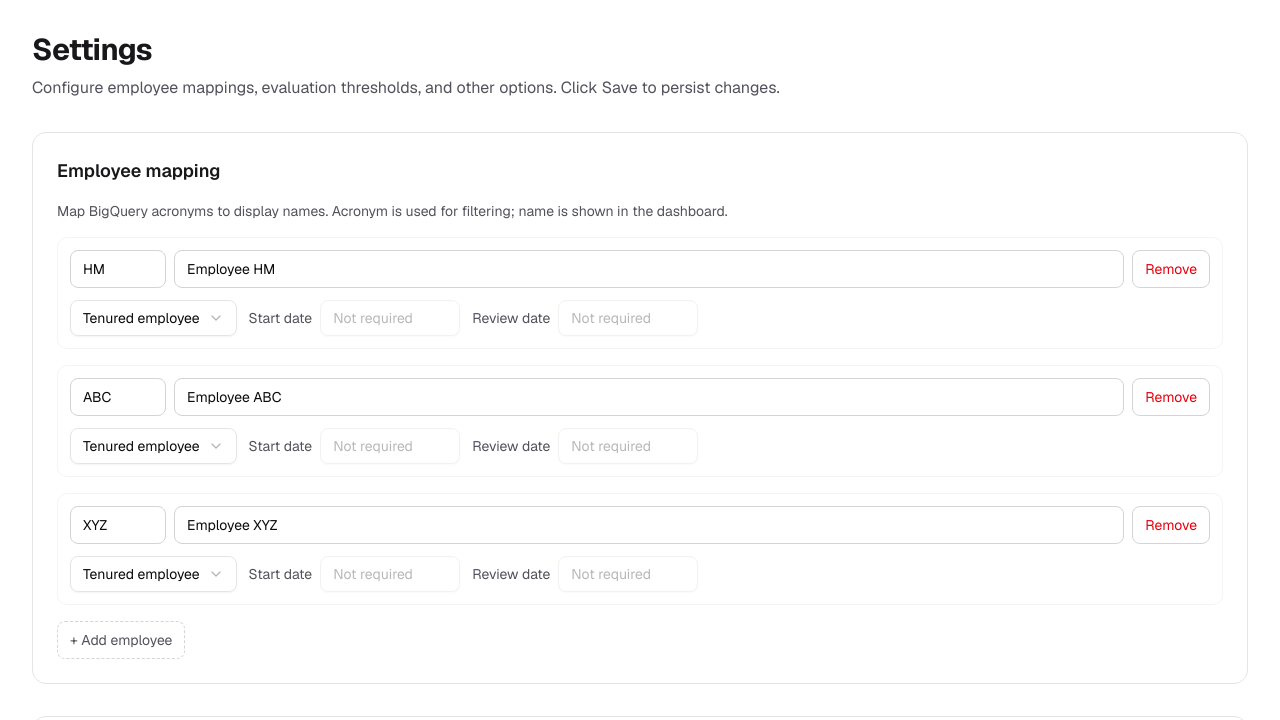
Test: Settings page › Start date and Review date pickers are enabled when status is changed to probationary
What coordinates should you click on to do the following:
click the dropdown named "Employee status"
I would click on:
 (153, 318)
Its box is x1=70 y1=300 x2=237 y2=336.
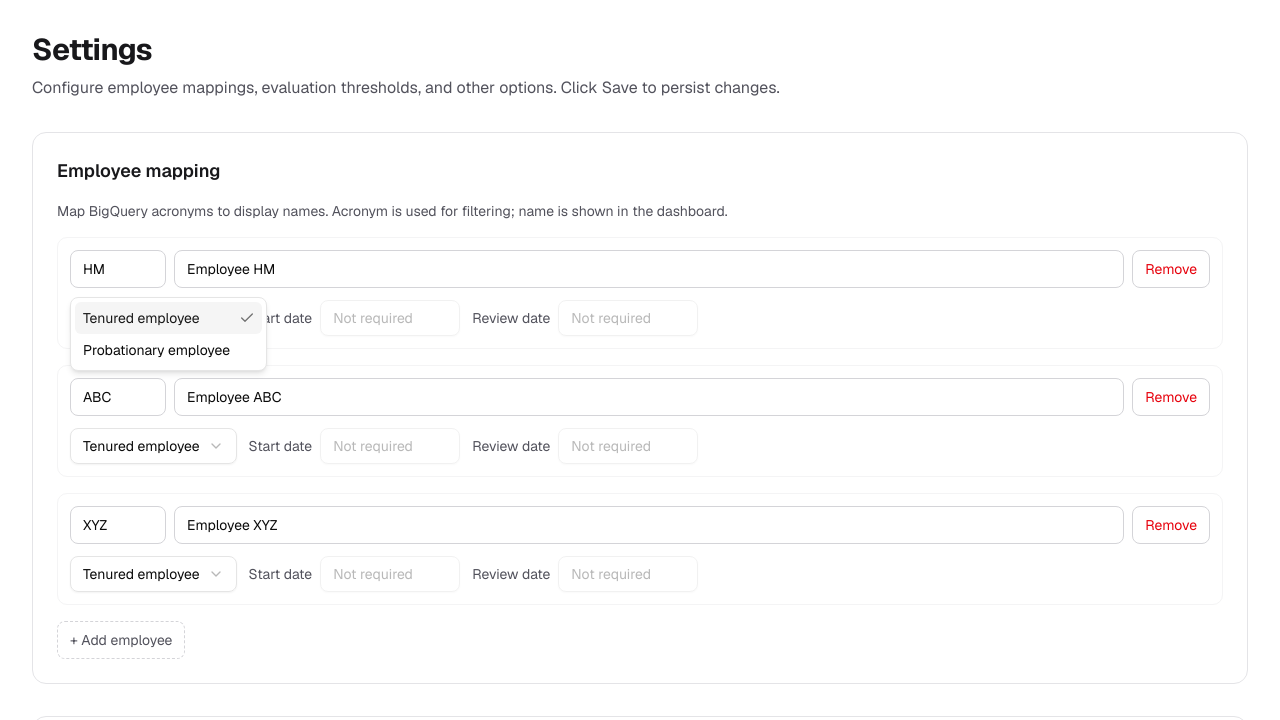
What coordinates should you click on to do the following:
click the option "Probationary employee"
I would click on:
 (157, 350)
Its box is x1=83 y1=341 x2=230 y2=359.
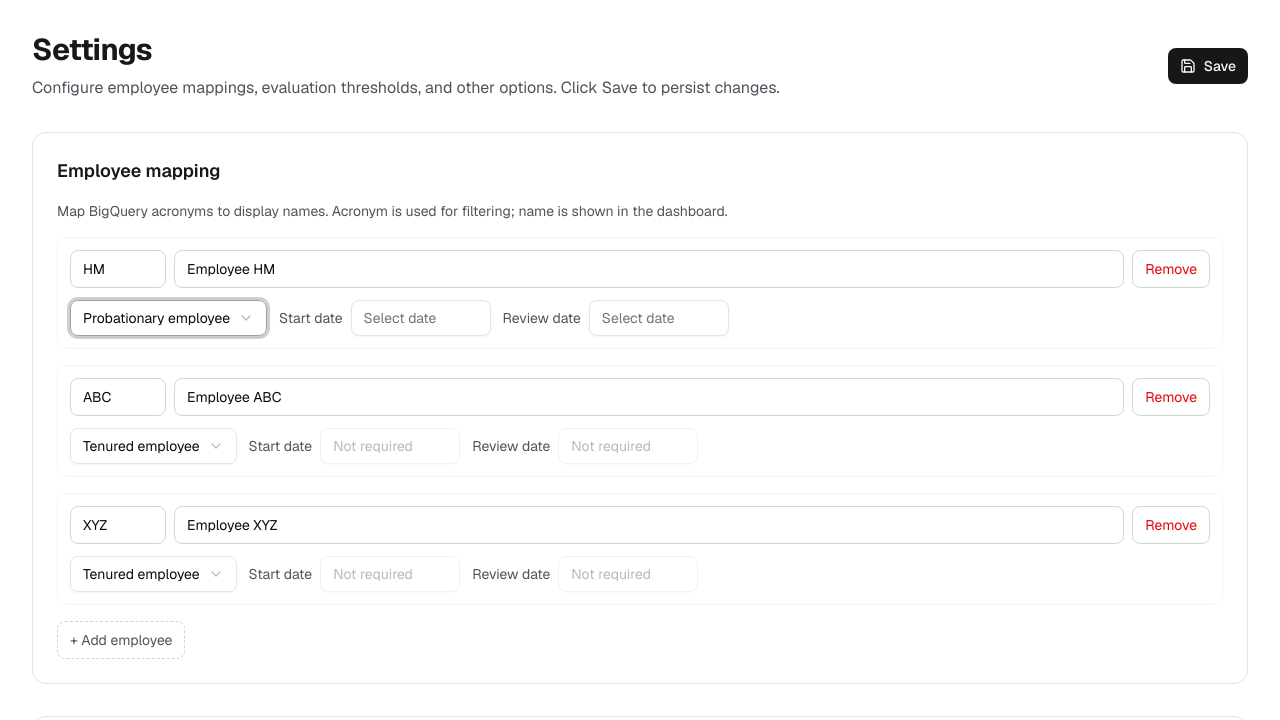
Expected: the button with aria-label "Start date" is enabled, x1=351 y1=300 x2=491 y2=336
Expected: the button with aria-label "Review date" is enabled, x1=589 y1=300 x2=729 y2=336
